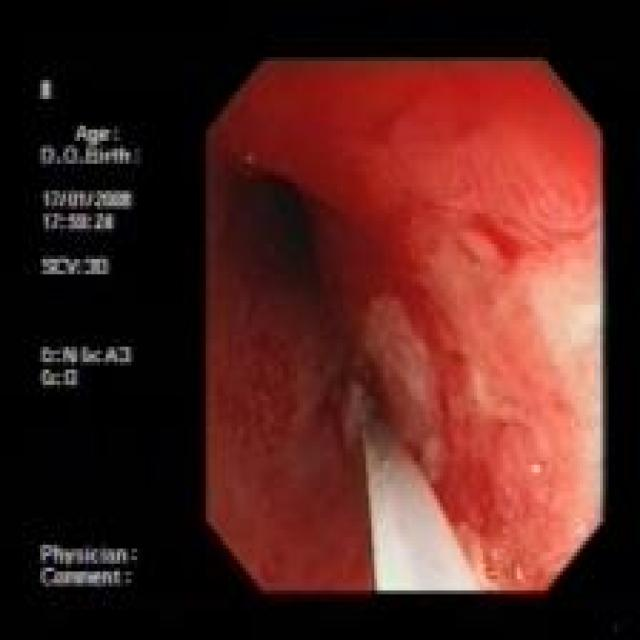blood: (312, 181, 502, 510)
bubbles: (511, 557, 537, 583), (484, 559, 500, 580)
color misalignment: (32, 68, 177, 611)
contrast: (220, 156, 328, 302)
instrument: (352, 383, 478, 590)
saturation: (499, 184, 600, 452), (431, 519, 482, 589), (373, 526, 412, 590)
